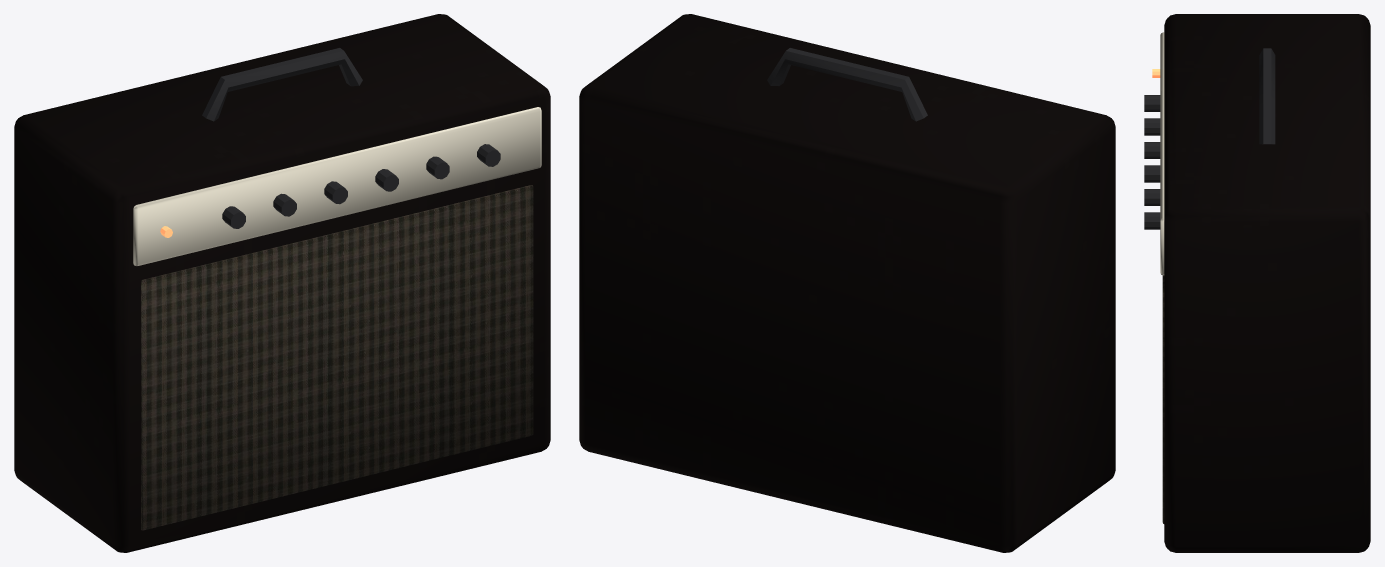
The model's file is stage_amp.glb.
The picture shows the model from 3 angles, left to right: view 1: azimuth 30°, elevation 25°; view 2: azimuth 150°, elevation 25°; view 3: azimuth 270°, elevation 25°; orthographic projection. The views are drawn at different scales.
Visible parts, largest first — view 1: Amp, Amp grille, Amp panel, Stage black.002; view 2: Amp, Stage black.002; view 3: Amp, Stage black.002, Amp panel, Amp grille.
Part boxes in pixels (x1,y1,x2,y2): Amp: [14, 14, 550, 552]; Amp grille: [141, 185, 533, 530]; Amp panel: [133, 107, 541, 265]; Stage black.002: [202, 48, 500, 228]; Amp: [579, 14, 1115, 552]; Stage black.002: [767, 48, 927, 121]; Amp: [1164, 14, 1370, 552]; Stage black.002: [1144, 48, 1275, 229]; Amp panel: [1160, 32, 1164, 275]; Amp grille: [1162, 275, 1164, 523].
Bounding box in the file's own units: 0.6 × 0.5285 × 0.285.
5 materials, 2 textured.
